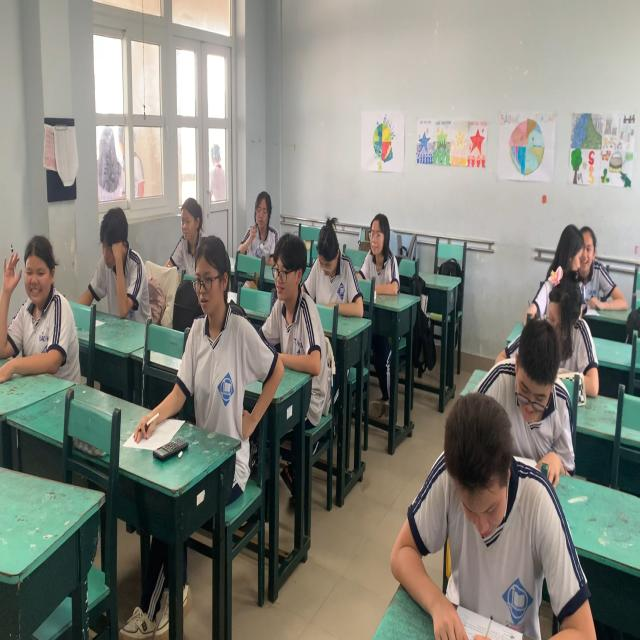cheating: (548, 225, 581, 284)
not_cheating: (408, 386, 559, 640), (185, 227, 253, 432), (491, 323, 561, 478), (0, 226, 72, 372), (89, 205, 150, 327), (264, 224, 316, 356), (306, 212, 360, 317), (578, 222, 630, 313), (357, 202, 404, 290), (170, 198, 213, 261), (242, 188, 280, 251)
